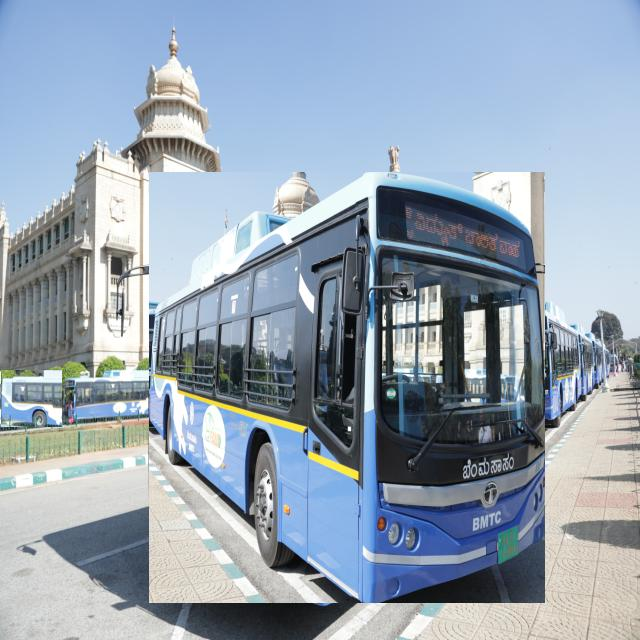bus: (149, 172, 545, 603), (536, 302, 580, 426), (65, 369, 150, 423), (1, 371, 61, 427)
